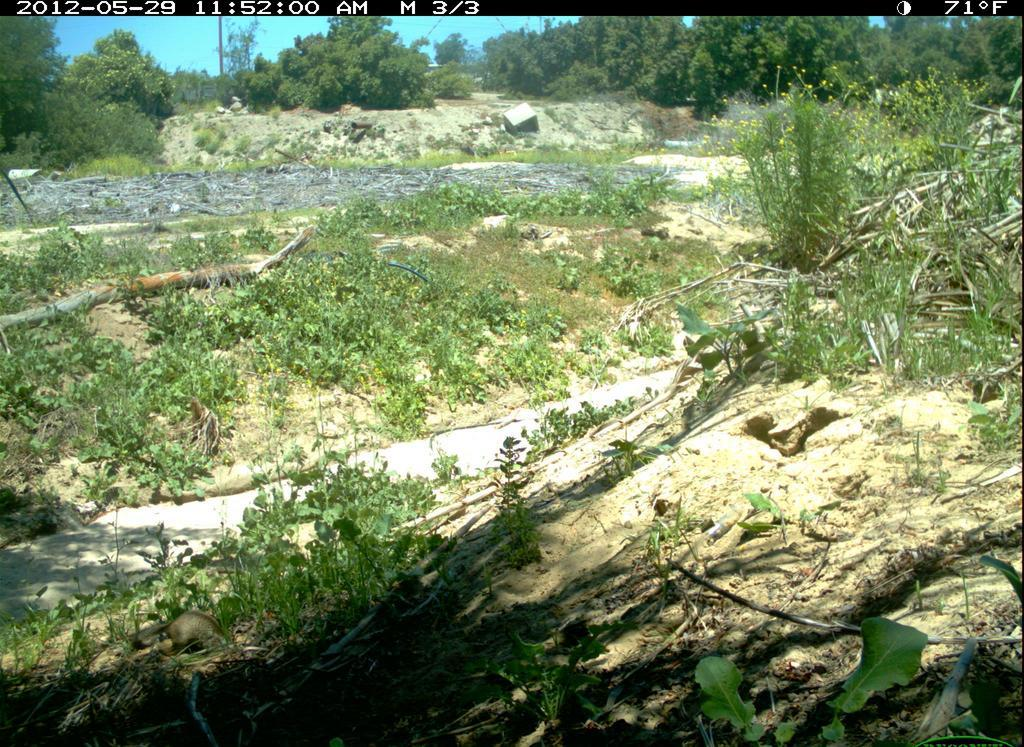squirrel: (148, 602, 228, 658)
